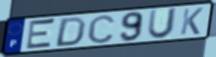9: (117, 10, 145, 43)
C: (86, 13, 116, 45)
D: (53, 16, 88, 48)
E: (25, 17, 58, 51)
K: (179, 7, 205, 36)
U: (146, 7, 180, 41)
